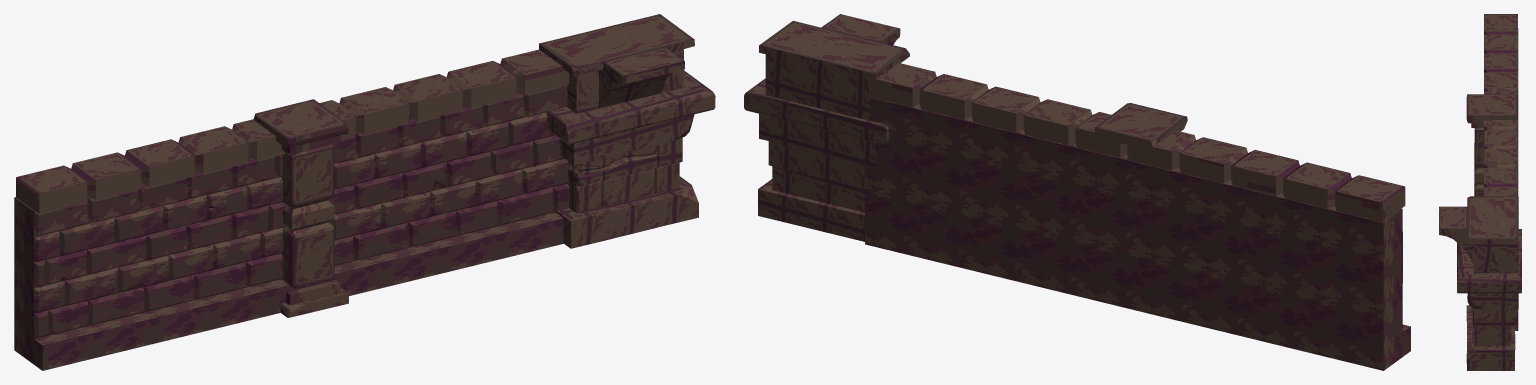
Rendered from brick_wall_comp_1.fbx.
3 renders of one model, left to right at view 1: azimuth 30°, elevation 25°; view 2: azimuth 150°, elevation 25°; view 3: azimuth 270°, elevation 25°, orthographic. The views are drawn at different scales.
Parts seen in each view (by area): view 1: Wall_Top; view 2: Wall_Top; view 3: Wall_Top.
Boxes of the visible parts, box(x1,y1,x2,y2) form: Wall_Top: box(14, 14, 715, 370); Wall_Top: box(744, 14, 1410, 370); Wall_Top: box(1439, 14, 1521, 370).
Bounding box in the file's own units: 2703 × 702 × 404.
2 materials, 2 textured.
